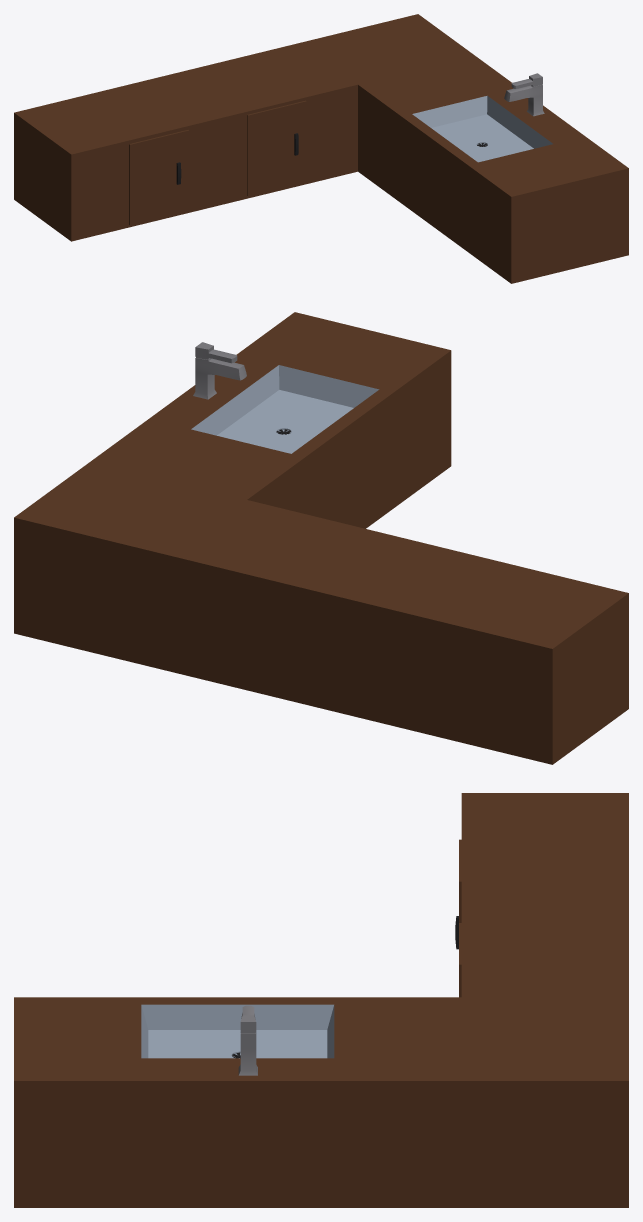
Rendered from Mutfak_Tezgah.fbx.
3 views of the same model, one above another, from view 1: azimuth 30°, elevation 25°; view 2: azimuth 150°, elevation 25°; view 3: azimuth 270°, elevation 25° (orthographic). The views are drawn at different scales.
Visible parts, largest first — view 1: Mutfak_Tezgahı; view 2: Mutfak_Tezgahı; view 3: Mutfak_Tezgahı.
Part boxes in pixels (x1=…): Mutfak_Tezgahı: x1=14, y1=14, x2=628, y2=283; Mutfak_Tezgahı: x1=14, y1=312, x2=628, y2=764; Mutfak_Tezgahı: x1=14, y1=793, x2=628, y2=1207.
Size of the model in its own units: 517 by 151 by 467.
